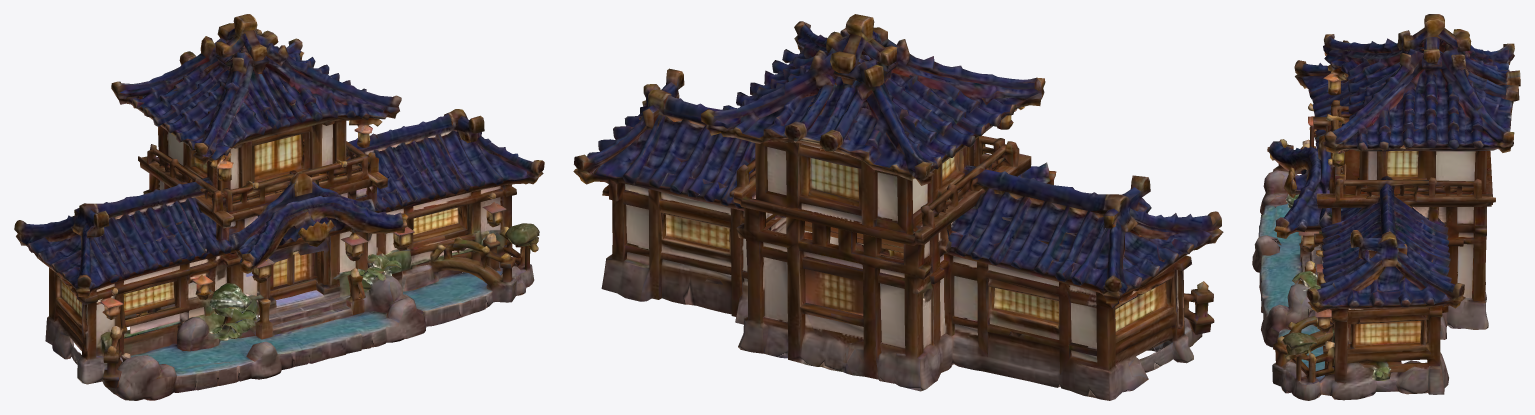
3 views of the same model, side by side, from view 1: azimuth 30°, elevation 25°; view 2: azimuth 150°, elevation 25°; view 3: azimuth 270°, elevation 25° (orthographic). The views are drawn at different scales.
Visible parts, largest first — view 1: compact__onsen_3__native_mobile; view 2: compact__onsen_3__native_mobile; view 3: compact__onsen_3__native_mobile.
Part boxes in pixels (left/top/right/bottom): compact__onsen_3__native_mobile: left=14, top=14, right=544, bottom=400; compact__onsen_3__native_mobile: left=573, top=14, right=1223, bottom=400; compact__onsen_3__native_mobile: left=1252, top=14, right=1520, bottom=400.
Bounding box in the file's own units: 1 × 0.5642 × 0.4859.
Materials: 1 (1 with a texture image).
